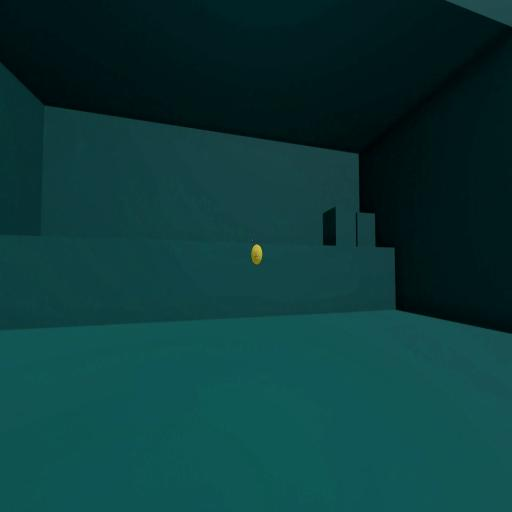Crosshair: (254, 252, 258, 260)
Target: (250, 243, 262, 266)
